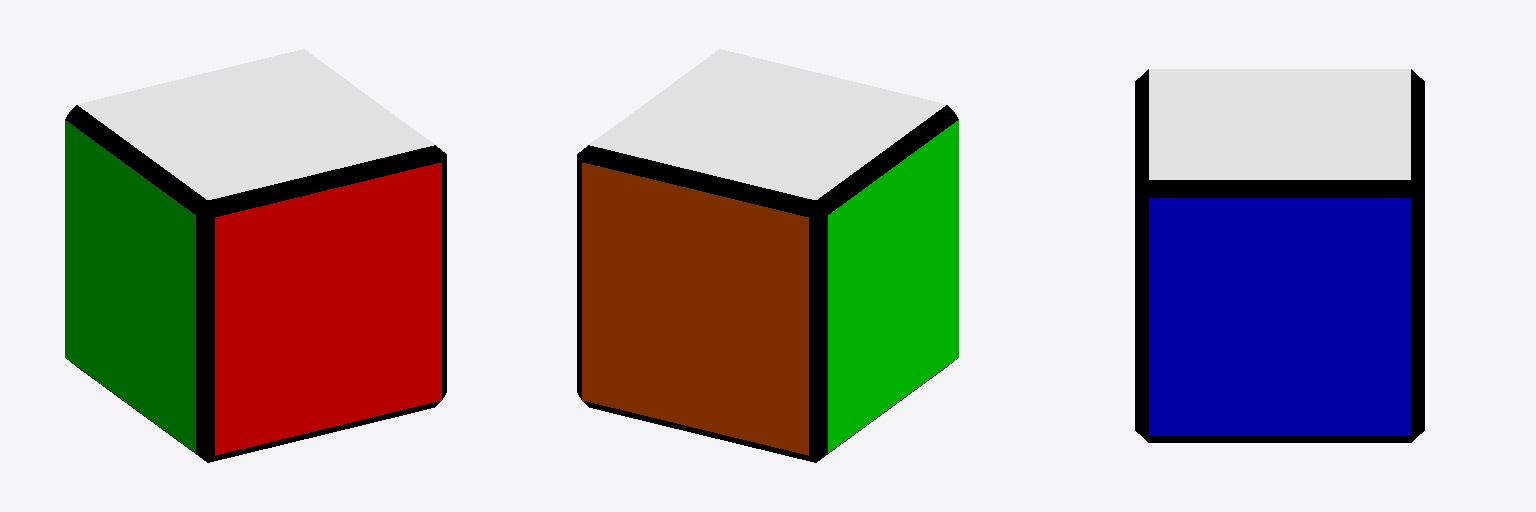
File: kek2.obj
The picture shows the model from 3 angles: view 1: azimuth 30°, elevation 25°; view 2: azimuth 150°, elevation 25°; view 3: azimuth 270°, elevation 25°; orthographic projection.
Parts seen in each view (by area): view 1: Cube; view 2: Cube; view 3: Cube.
Part boxes in pixels (x1,y1,x2,y2): Cube: (65,49,446,462); Cube: (577,49,958,462); Cube: (1135,69,1424,442).
Size of the model in its own units: 2 by 2 by 2.